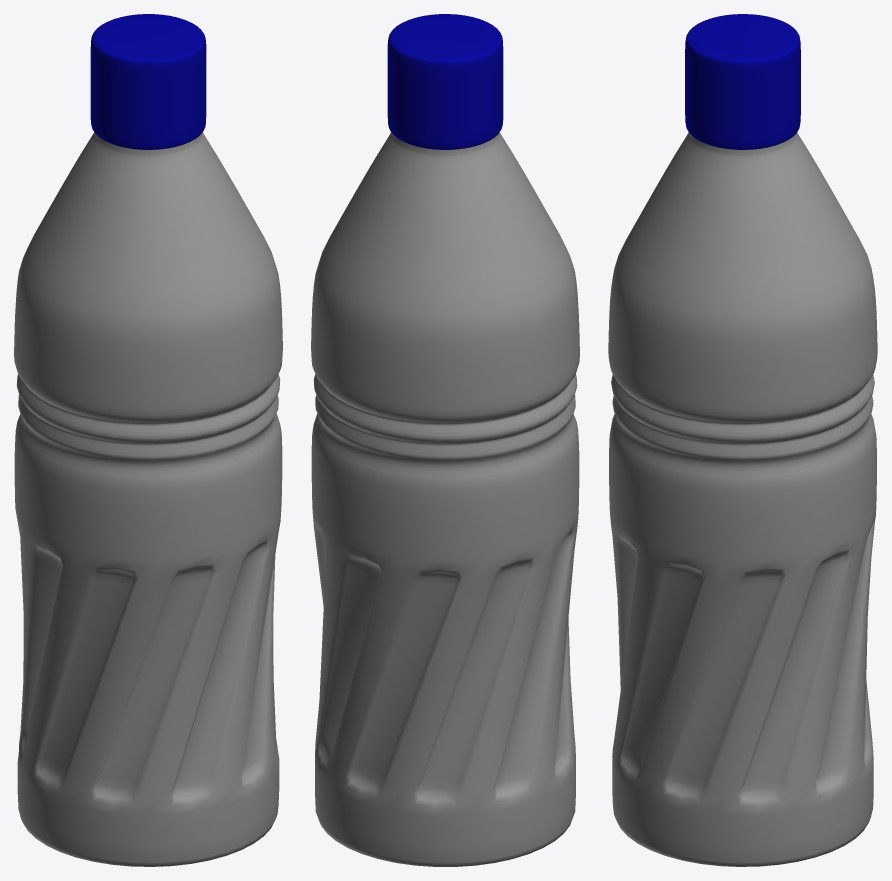
The model's file is Water-bottle.glb.
3 renders of one model, left to right at view 1: azimuth 30°, elevation 25°; view 2: azimuth 150°, elevation 25°; view 3: azimuth 270°, elevation 25°, orthographic.
Parts seen in each view (by area): view 1: Waterbottle; view 2: Waterbottle; view 3: Waterbottle.
Part boxes in pixels (x1,y1,x2,y2): Waterbottle: [14, 14, 282, 866]; Waterbottle: [311, 14, 579, 866]; Waterbottle: [608, 14, 877, 866].
Size of the model in its own units: 0.1448 by 0.4609 by 0.1448.
